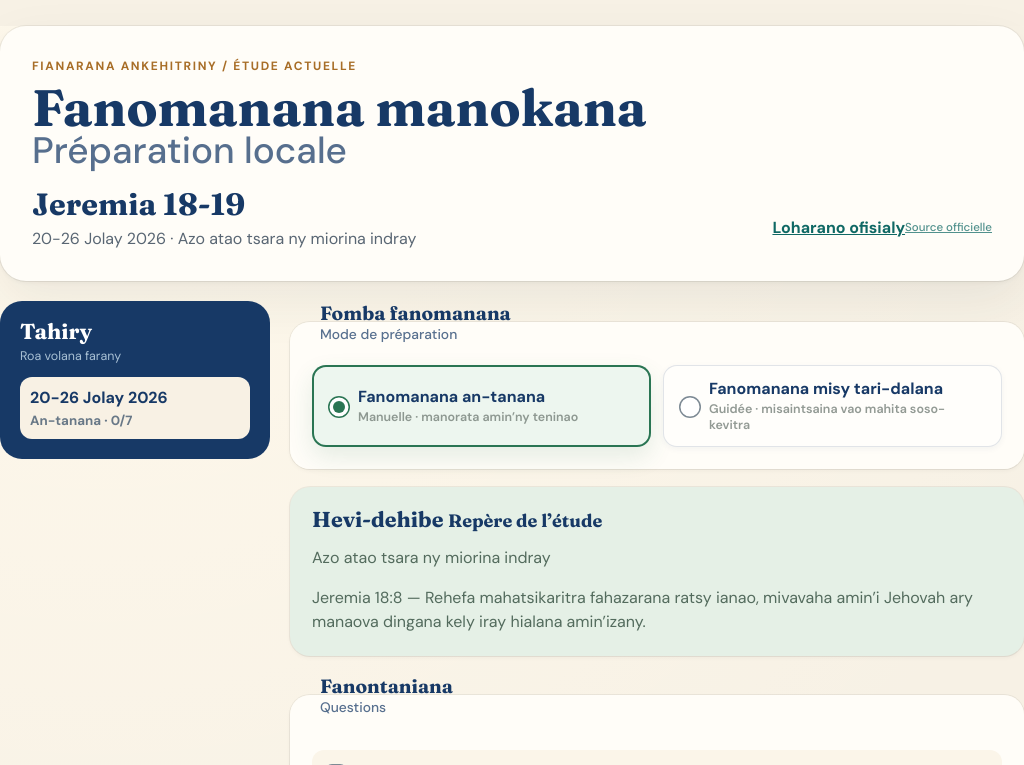
Scenario: PreparationWorkspace › shows an explicit unavailable state when guided suggestions were not prepared
The width and height of the screenshot is (1024, 765).
Click the radio button labelled "Fanomanana misy tari-dalana": coordinates (690, 407) [679, 396, 701, 418]
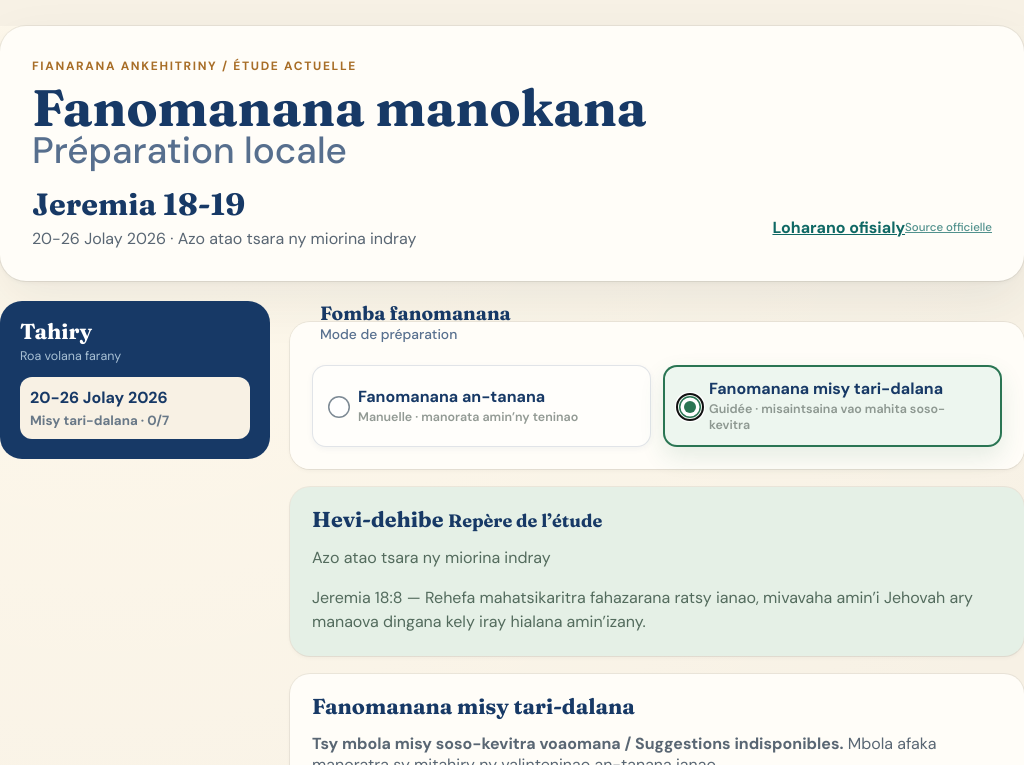
Expected: the text "Tsy mbola misy soso-kevitra voaomana" is shown, [312, 733, 844, 754]
